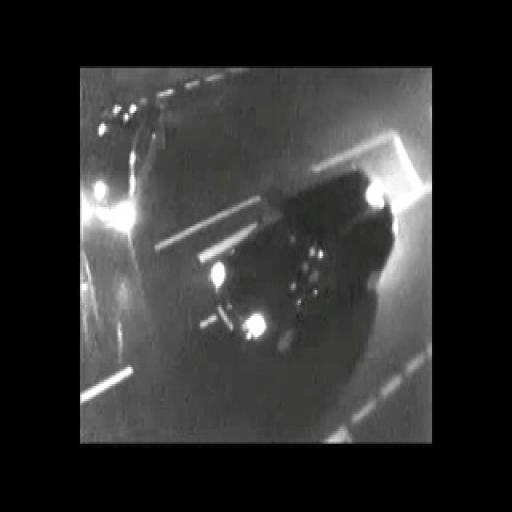Car: (210, 202, 402, 337), (81, 207, 140, 374), (86, 106, 146, 212)
Minor Accident: (78, 100, 171, 391)
